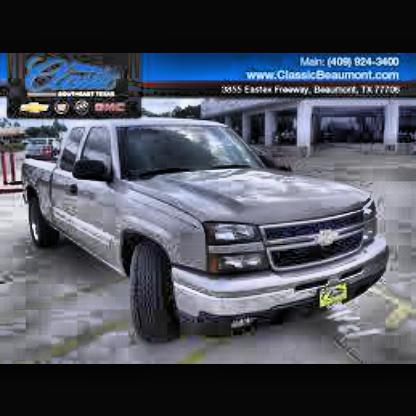Chevrolet Silverado 1500 Classic Extended Cab 2007: (21, 119, 396, 351)
